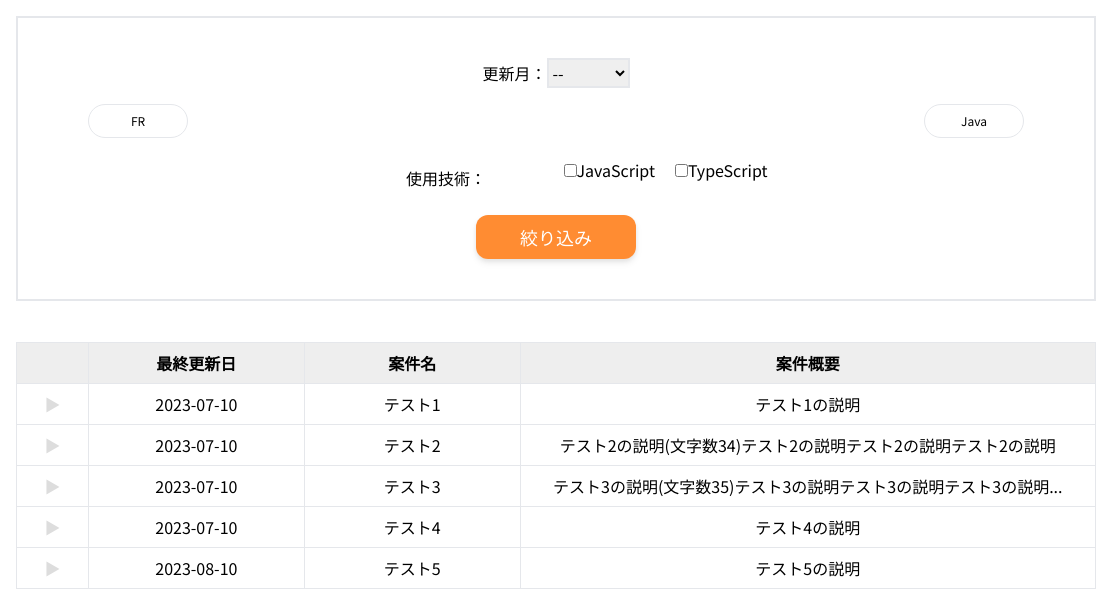
Test: select › 絞り込みテスト › 絞り込みapiリクエストのテスト › 回答月の選択
Select "2023-07" in the dropdown with test id "month" at point(588, 73), box [546,58,630,88]
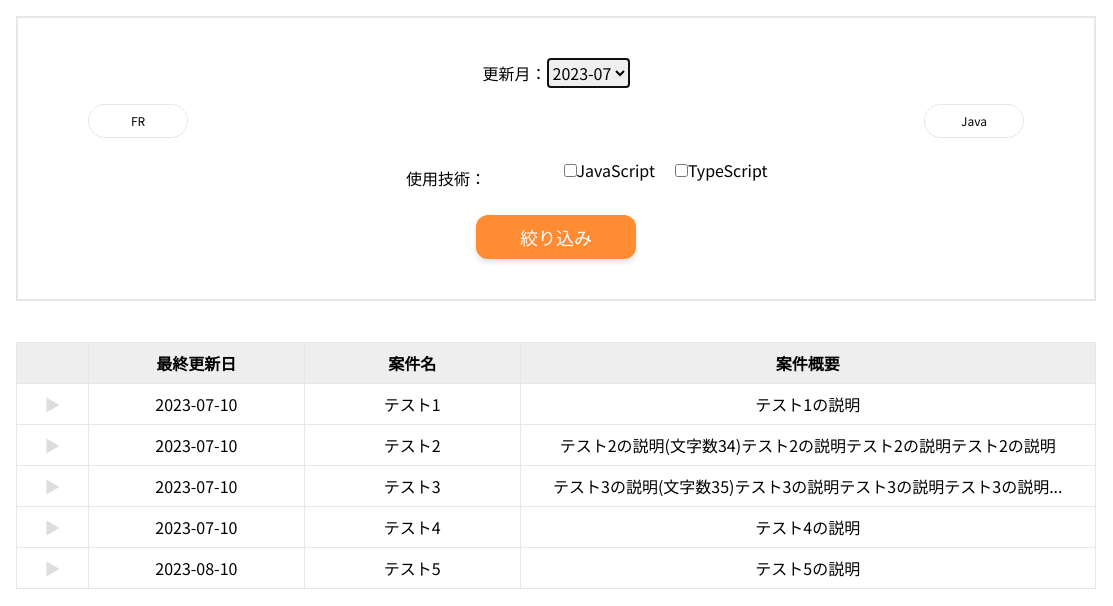
Click the button "絞り込み" at point(556, 236), box [476,214,636,258]
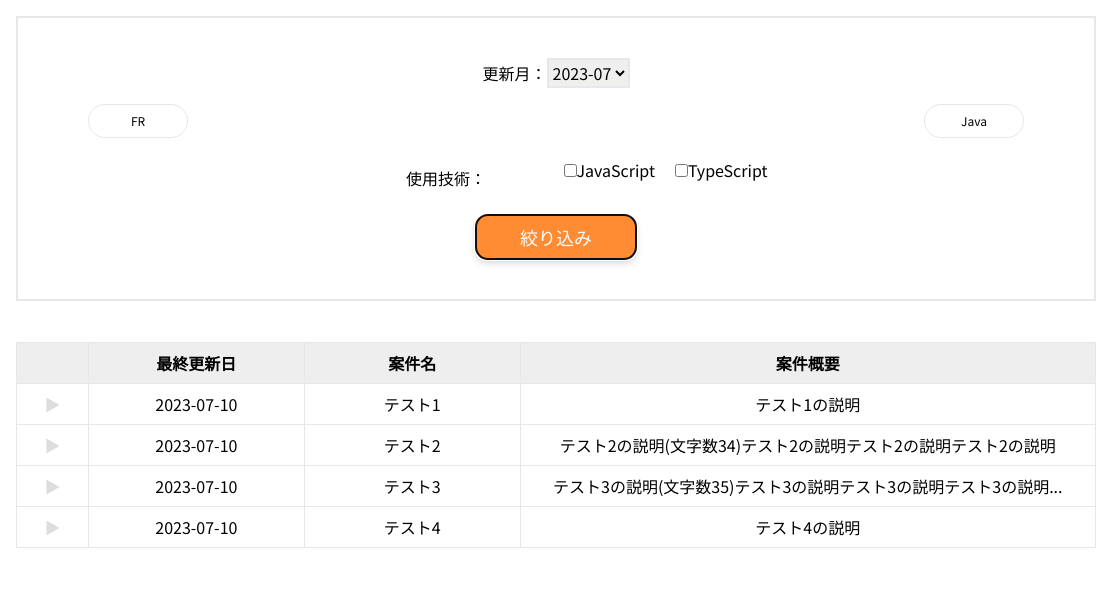
Expected: the text "テスト1" is shown, [304,383,520,424]
Now the text "テスト5" is gone
Select "2023-08" in the dropdown with test id "month" at point(588, 73), box [546,58,630,88]
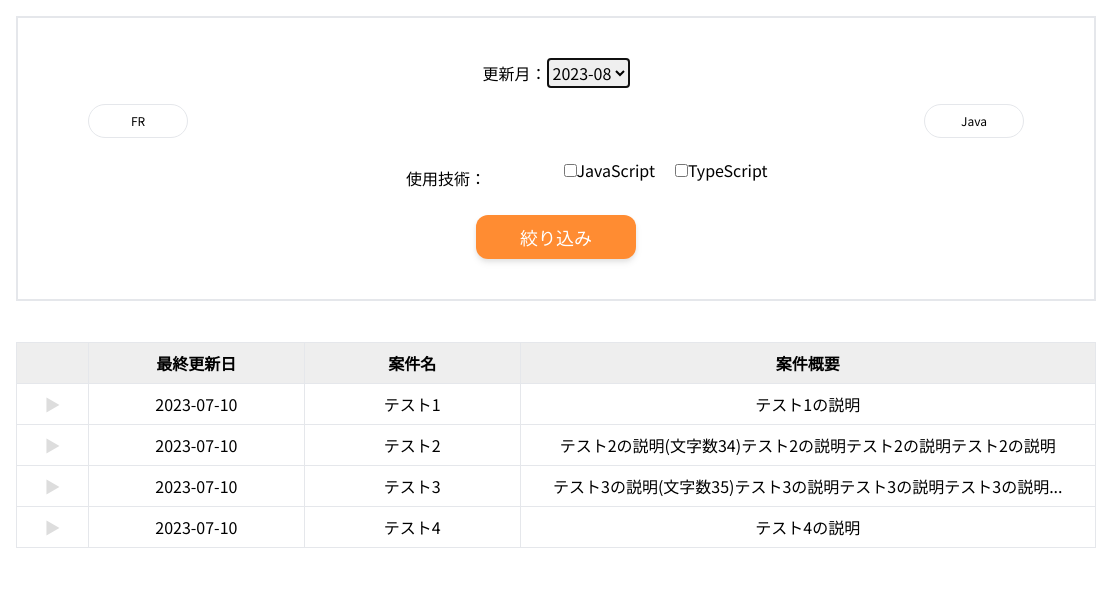
Click the button "絞り込み" at point(556, 236), box [476,214,636,258]
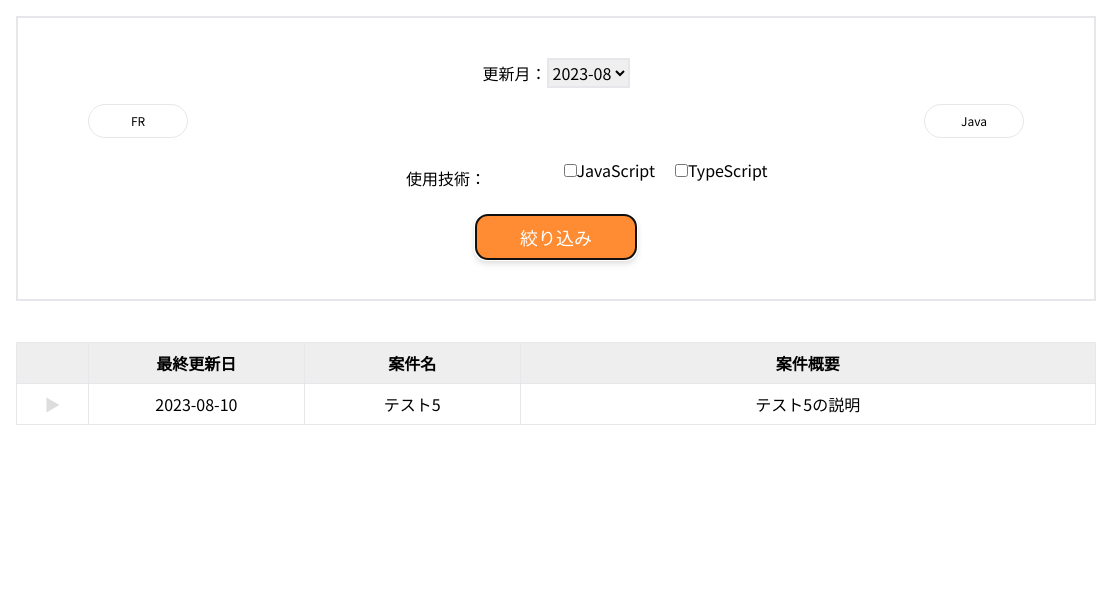
Now the text "テスト1" is gone
Now the text "テスト5" is shown, box [304,383,520,424]
